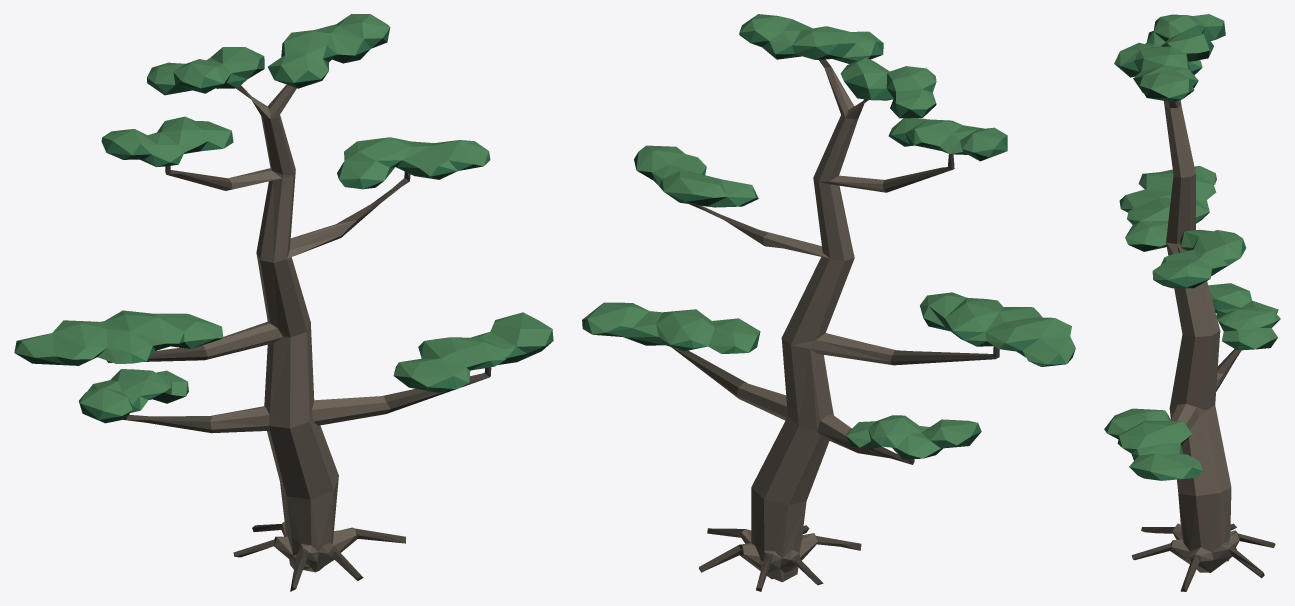
File: ancient-pine-5566-lod2.glb
3 renders of one model, left to right at view 1: azimuth 30°, elevation 25°; view 2: azimuth 150°, elevation 25°; view 3: azimuth 270°, elevation 25°, orthographic. The views are drawn at different scales.
Parts seen in each view (by area): view 1: n12.006, n8.006, n9.006, n11.006, n10.006; view 2: n12.006, n8.006, n11.006, n9.006, n10.006; view 3: n12.006, n8.006, n11.006, n9.006, n10.006.
Boxes of the visible parts, bbox=[...] form: n12.006: bbox=[14, 14, 552, 415]; n8.006: bbox=[203, 84, 390, 572]; n9.006: bbox=[107, 85, 491, 591]; n11.006: bbox=[14, 28, 553, 419]; n10.006: bbox=[15, 38, 552, 423]; n12.006: bbox=[582, 14, 1075, 458]; n8.006: bbox=[736, 67, 895, 582]; n11.006: bbox=[582, 31, 1066, 448]; n9.006: bbox=[671, 59, 999, 591]; n10.006: bbox=[593, 33, 1075, 459]; n12.006: bbox=[1107, 14, 1280, 478]; n8.006: bbox=[1164, 100, 1239, 572]; n11.006: bbox=[1104, 17, 1275, 480]; n9.006: bbox=[1131, 348, 1275, 591]; n10.006: bbox=[1107, 29, 1280, 477].
Size of the model in its own units: 5.24 by 5.43 by 1.71.
